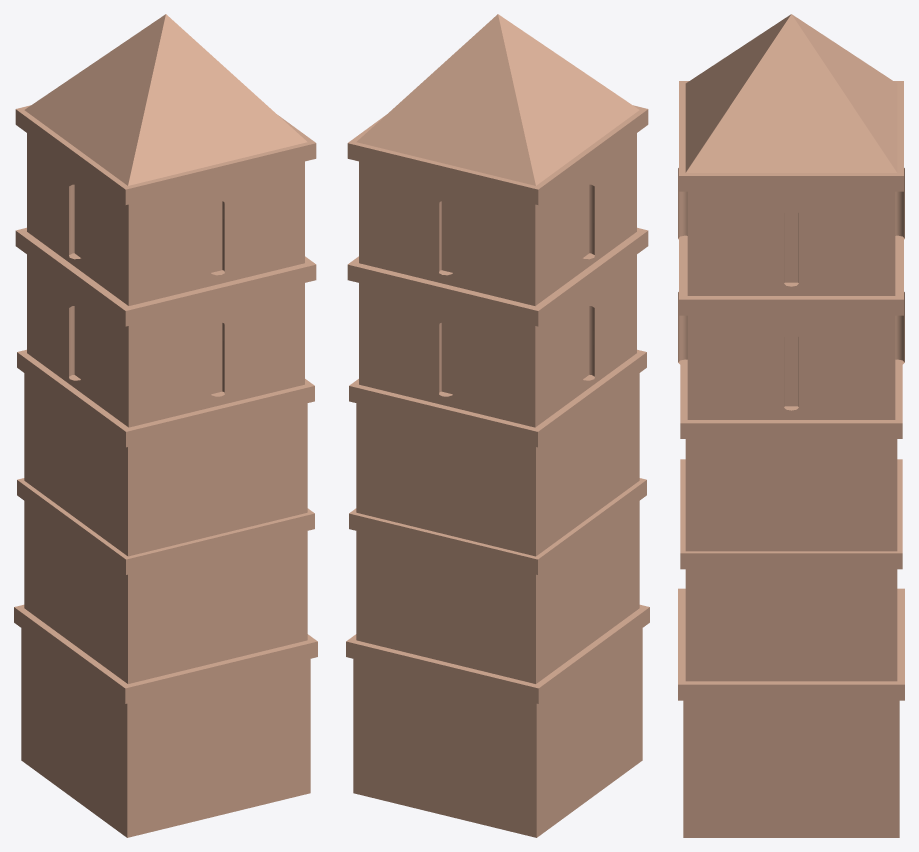
The model's file is campanile_tower_sb_archi.glb.
3 renders of one model, left to right at view 1: azimuth 30°, elevation 25°; view 2: azimuth 150°, elevation 25°; view 3: azimuth 270°, elevation 25°, orthographic. The views are drawn at different scales.
Parts seen in each view (by area): view 1: Tectonic_campanile_tower; view 2: Tectonic_campanile_tower; view 3: Tectonic_campanile_tower.
Part boxes in pixels (bbox=[...]): Tectonic_campanile_tower: bbox=[14, 14, 317, 837]; Tectonic_campanile_tower: bbox=[346, 14, 649, 837]; Tectonic_campanile_tower: bbox=[678, 14, 904, 837].
Size of the model in its own units: 7.88 by 29.81 by 7.88.
